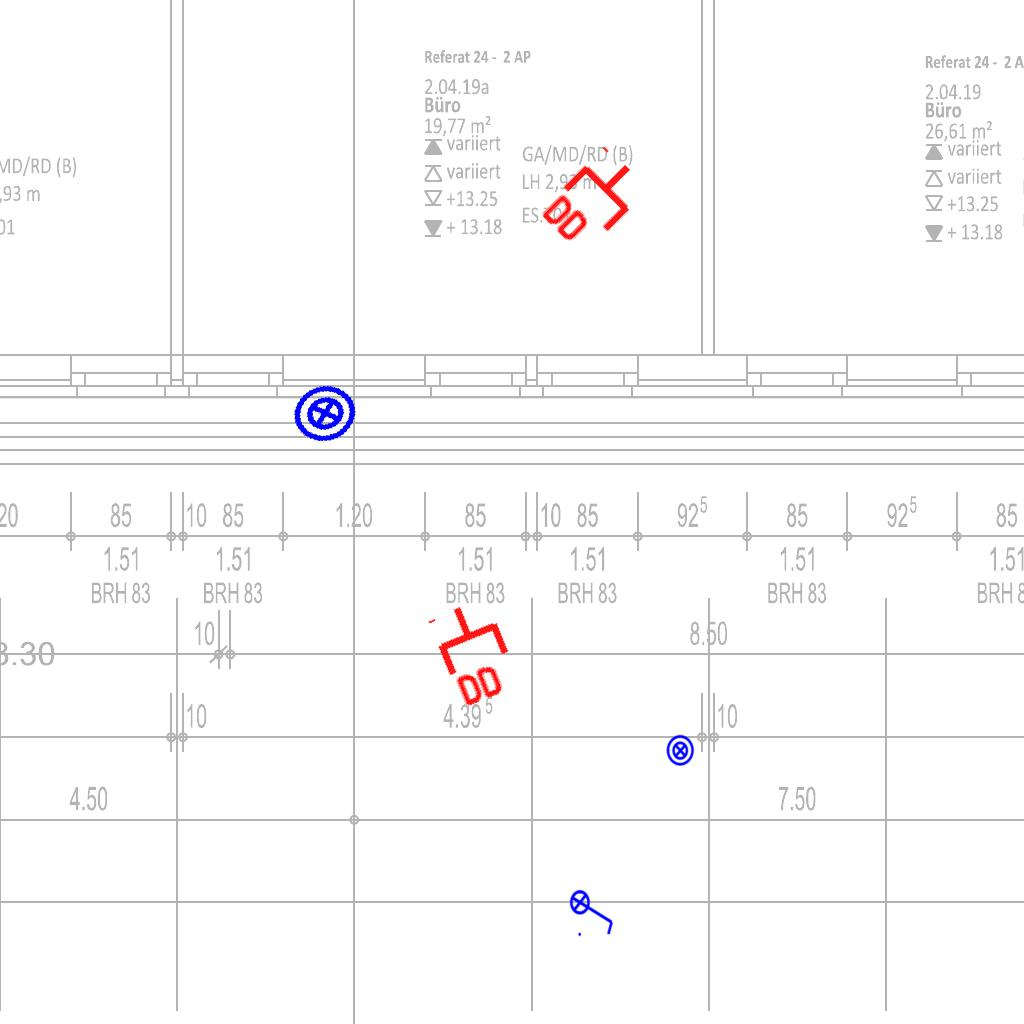Ausschalter_beleuchtet: (569, 883, 617, 939)
Datenanschluss_zweifach: (533, 141, 656, 264), (425, 591, 528, 714)
Taster_beleuchtet: (284, 372, 366, 454), (664, 734, 697, 767)
